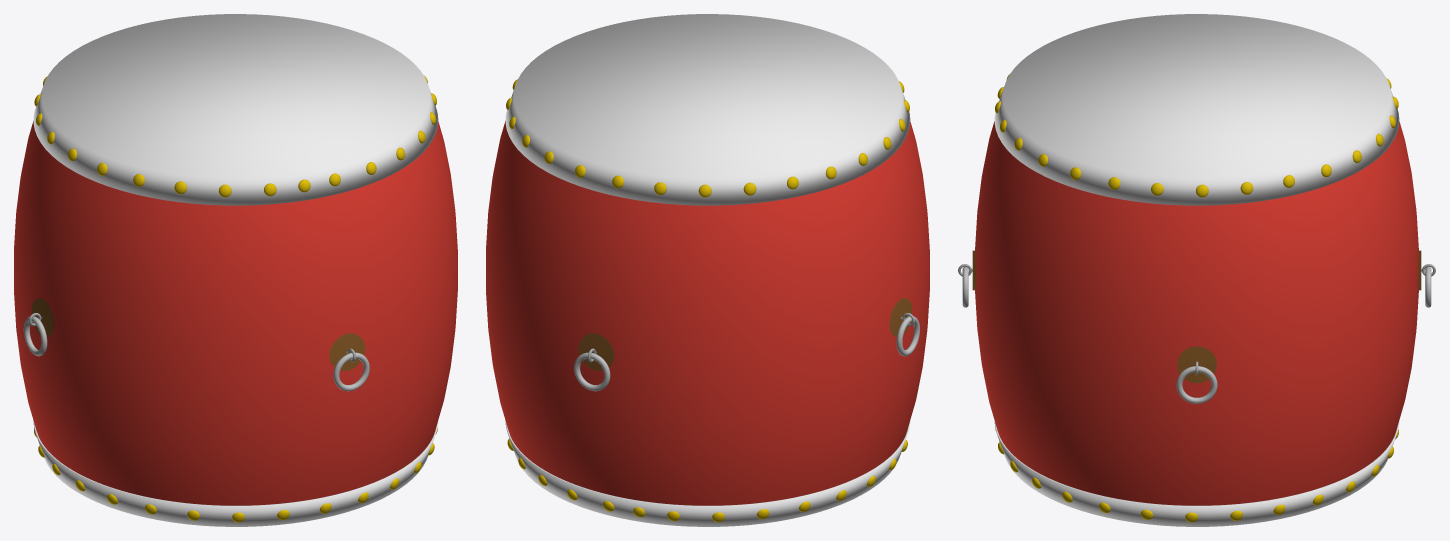
Rendered from drum.glb.
3 views of the same model, side by side, from view 1: azimuth 30°, elevation 25°; view 2: azimuth 150°, elevation 25°; view 3: azimuth 270°, elevation 25° (orthographic).
Parts seen in each view (by area): view 1: body, top drummer, top drummer.001, handel.003, Torus.002, handel.001, Torus.001; view 2: body, top drummer, top drummer.001, handel.002, Torus.003, handel.001, Torus.001; view 3: body, top drummer, top drummer.001, handel.004, Torus.004.
Boxes of the visible parts, x1,y1,x2,y2 form: body: (14, 121, 457, 505); top drummer: (33, 14, 438, 205); top drummer.001: (33, 420, 438, 526); handel.003: (329, 333, 365, 370); Torus.002: (333, 352, 369, 391); handel.001: (28, 298, 54, 336); Torus.001: (23, 316, 47, 356); body: (486, 121, 929, 505); top drummer: (505, 14, 910, 205); top drummer.001: (505, 420, 910, 526); handel.002: (578, 333, 614, 370); Torus.003: (574, 352, 610, 391); handel.001: (889, 298, 914, 336); Torus.001: (896, 316, 919, 356); body: (975, 121, 1418, 505); top drummer: (994, 14, 1399, 205); top drummer.001: (994, 421, 1399, 526); handel.004: (1177, 346, 1216, 383); Torus.004: (1176, 366, 1217, 403).
Bounding box in the file's own units: 2.48 × 2 × 2.48.
